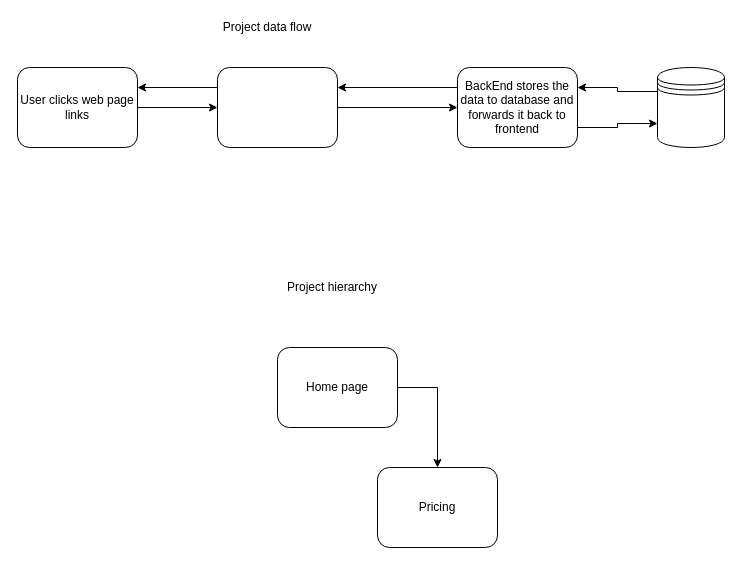
This 742x565 diagram has some shape labels left out. The shapes that lost their labels are listed below. From the top down, each one's box as (x1, y1, x2, y2) in pixels, then its label:
(216, 66, 338, 148): FrontEnd show the content and stores data to backend, and shows it to the user
(656, 66, 724, 148): MongoDB stores data
